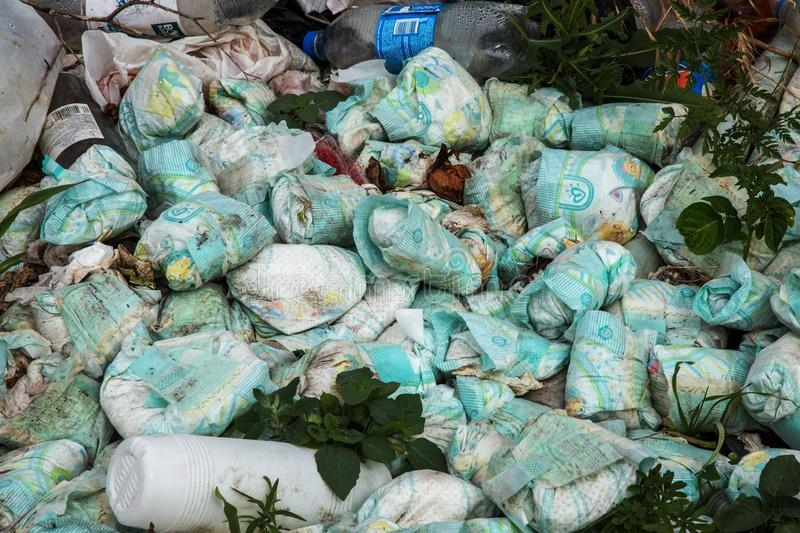paper: (449, 393, 661, 533), (94, 318, 284, 449), (124, 185, 289, 297), (501, 229, 650, 342), (349, 186, 493, 302), (226, 236, 384, 340), (515, 140, 656, 251), (371, 43, 497, 159), (294, 328, 444, 421), (424, 297, 575, 389), (196, 114, 332, 216), (559, 308, 666, 434), (28, 269, 159, 368), (643, 337, 766, 435), (111, 41, 213, 157), (30, 154, 157, 247), (546, 98, 697, 171), (111, 40, 213, 146), (259, 162, 382, 249), (476, 72, 583, 152), (1, 436, 89, 533), (685, 251, 788, 333), (132, 133, 226, 217), (738, 326, 800, 453)
plastic: (104, 427, 398, 533), (299, 1, 540, 79)
